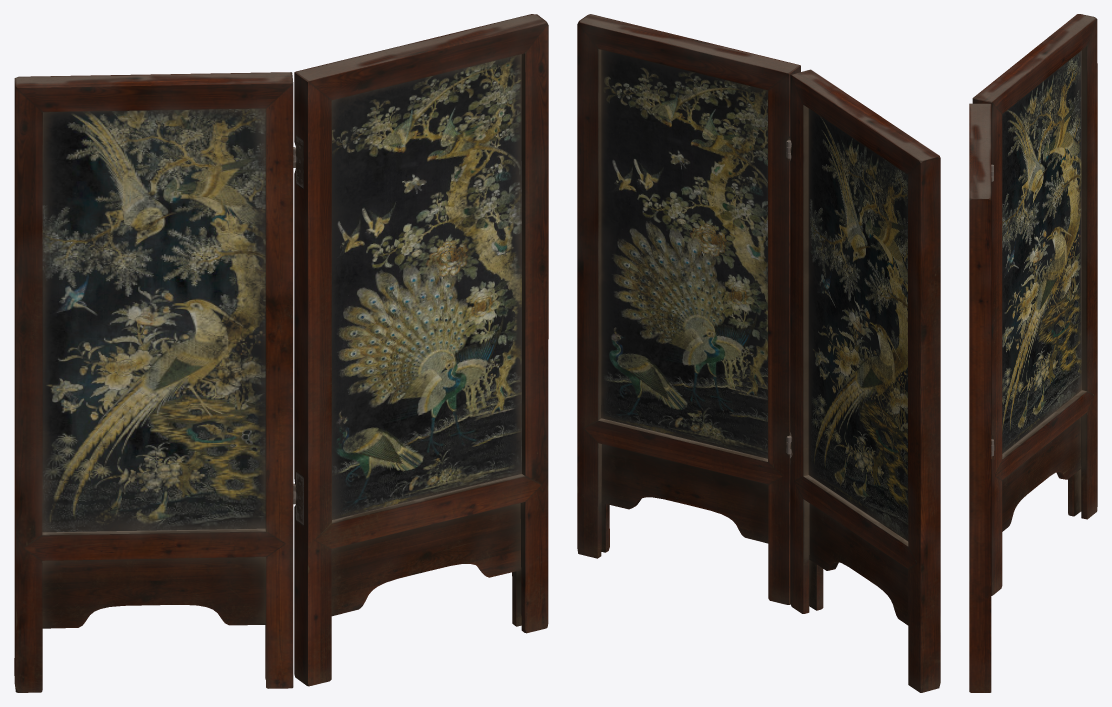
The model's file is chinese_screen_panels_2k.fbx.
3 views of the same model, side by side, from view 1: azimuth 30°, elevation 25°; view 2: azimuth 150°, elevation 25°; view 3: azimuth 270°, elevation 25° (orthographic). The views are drawn at different scales.
Visible parts, largest first — view 1: chinese_screen_panels_b, chinese_screen_panels_a; view 2: chinese_screen_panels_a, chinese_screen_panels_b; view 3: chinese_screen_panels_b, chinese_screen_panels_a.
Boxes of the visible parts, x1,y1,x2,y2 form: chinese_screen_panels_b: (14, 72, 295, 692); chinese_screen_panels_a: (293, 14, 548, 686); chinese_screen_panels_a: (577, 14, 800, 604); chinese_screen_panels_b: (786, 69, 940, 692); chinese_screen_panels_b: (972, 14, 1097, 595); chinese_screen_panels_a: (969, 103, 993, 692).
Size of the model in its own units: 129 by 160 by 37.69.
